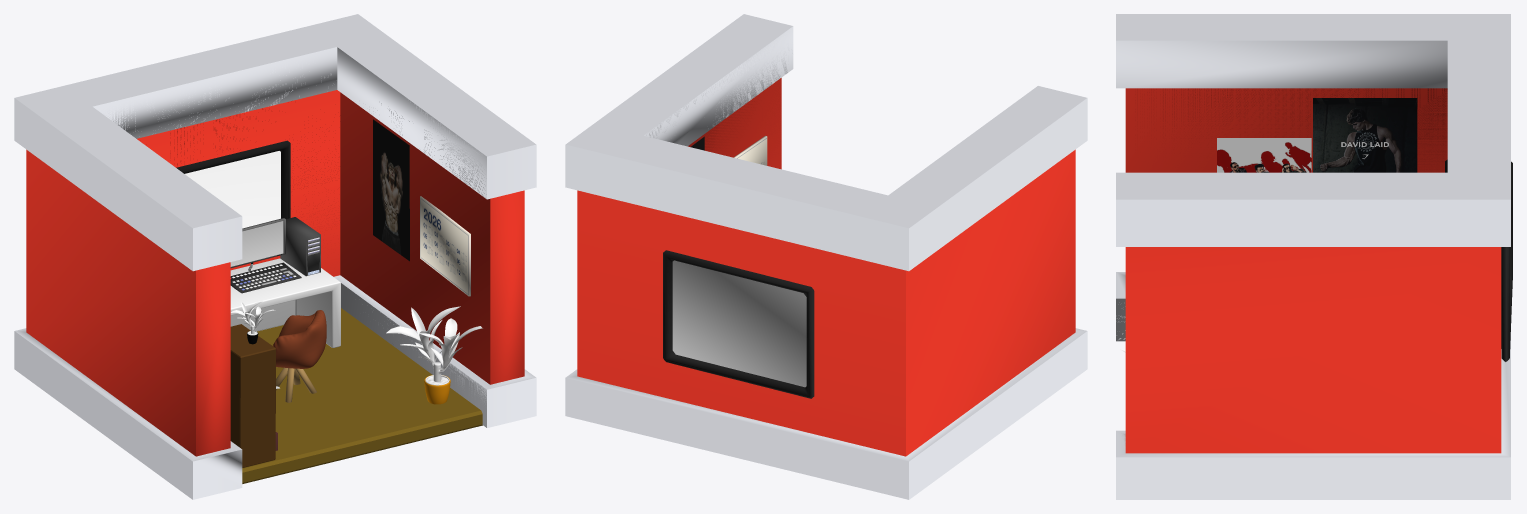
Rendered from mi_modelo.glb.
3 renders of one model, left to right at view 1: azimuth 30°, elevation 25°; view 2: azimuth 150°, elevation 25°; view 3: azimuth 270°, elevation 25°, orthographic. The views are drawn at different scales.
Visible parts, largest first — view 1: Cube, Plane, Cube.041, Cube.002, Plane.003, Plane.004, download (3), Calendar for 2026 starts on Monday, indoor plant_02, Cube.011, Cube.004, Cylinder.003 (+2 smaller); view 2: Cube, Cube.001, Cube.041, Calendar for 2026 starts on Monday; view 3: Cube, Cube.041, download (4), The Boys _ Best (anti) Superhero Series, Cube.001.
Boxes of the visible parts, bbox=[...] form: Cube: bbox=[14, 14, 536, 499]; Plane: bbox=[242, 308, 482, 483]; Cube.041: bbox=[82, 43, 487, 460]; Cube.002: bbox=[176, 140, 290, 228]; Plane.003: bbox=[230, 324, 275, 467]; Plane.004: bbox=[230, 258, 340, 347]; download (3): bbox=[373, 119, 409, 261]; Calendar for 2026 starts on Monday: bbox=[420, 196, 470, 296]; indoor plant_02: bbox=[386, 306, 482, 404]; Cube.011: bbox=[273, 310, 326, 368]; Cube.004: bbox=[280, 217, 320, 276]; Cylinder.003: bbox=[230, 218, 285, 267]; Cube: bbox=[565, 14, 1087, 499]; Cube.001: bbox=[663, 250, 814, 398]; Cube.041: bbox=[633, 16, 823, 180]; Calendar for 2026 starts on Monday: bbox=[734, 135, 767, 165]; Cube: bbox=[1116, 14, 1510, 499]; Cube.041: bbox=[1116, 18, 1456, 448]; download (4): bbox=[1313, 98, 1417, 172]; The Boys _ Best (anti) Superhero Series: bbox=[1217, 138, 1311, 172]; Cube.001: bbox=[1501, 161, 1512, 361].
Size of the model in its own units: 5.29 by 4.02 by 4.78.
78 materials, 4 textured.
